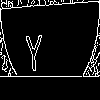Y: (25, 25, 43, 72)
